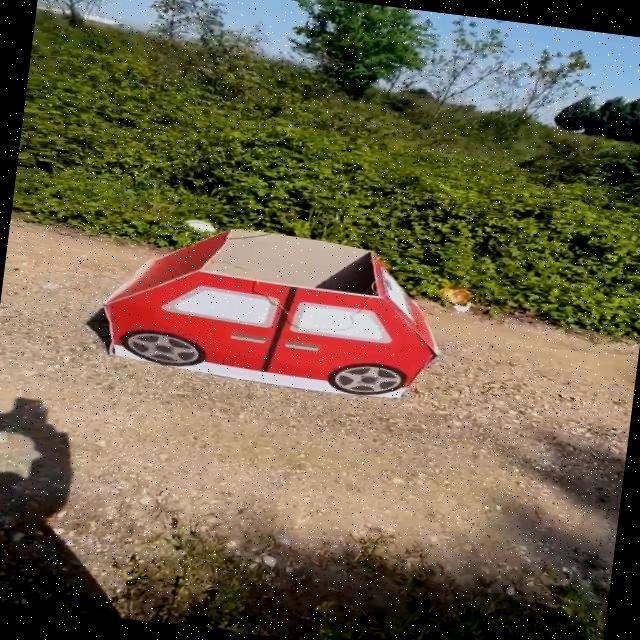red_car: (44, 202, 461, 414)
